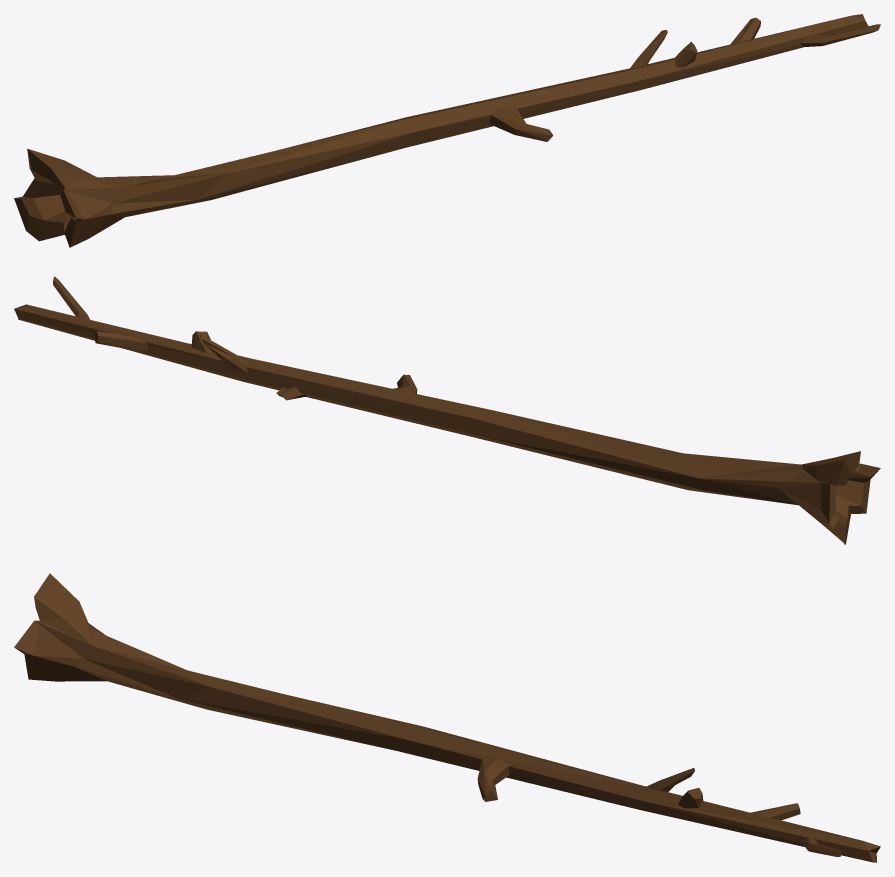
File: SM_Tree_Beech_Fallen_A.fbx
3 views of the same model, one above another, from view 1: azimuth 30°, elevation 25°; view 2: azimuth 150°, elevation 25°; view 3: azimuth 330°, elevation 25° (orthographic).
Visible parts, largest first — view 1: tree-beech-fallen-a; view 2: tree-beech-fallen-a; view 3: tree-beech-fallen-a.
Boxes of the visible parts, x1,y1,x2,y2 form: tree-beech-fallen-a: (14,14,880,247); tree-beech-fallen-a: (14,276,880,544); tree-beech-fallen-a: (14,573,880,862).
Bounding box in the file's own units: 8.82 × 0.9125 × 1.13.
